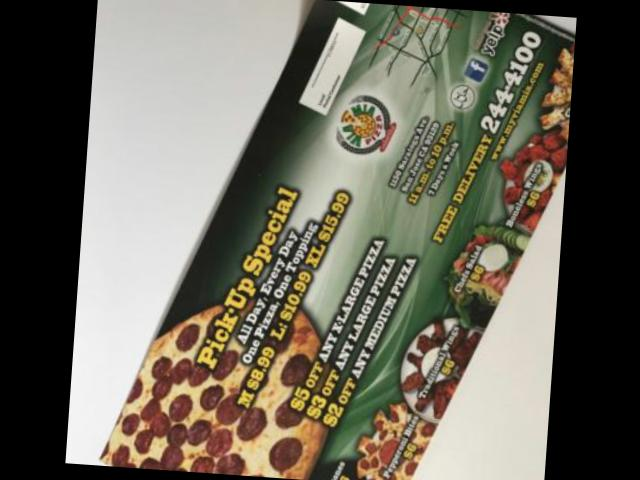cardboard paper: (98, 0, 570, 480)
